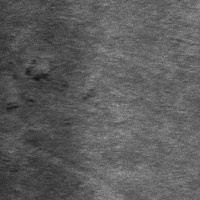rolled-in_scale: (5, 58, 77, 113)
